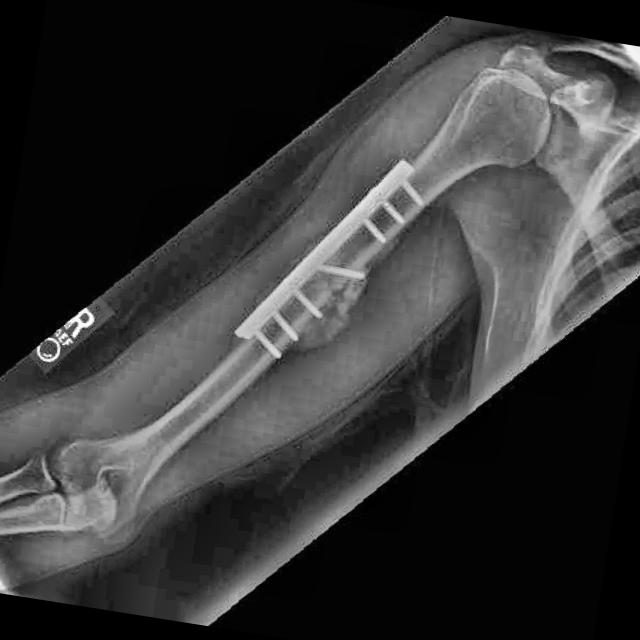humerus: (312, 273, 353, 311)
